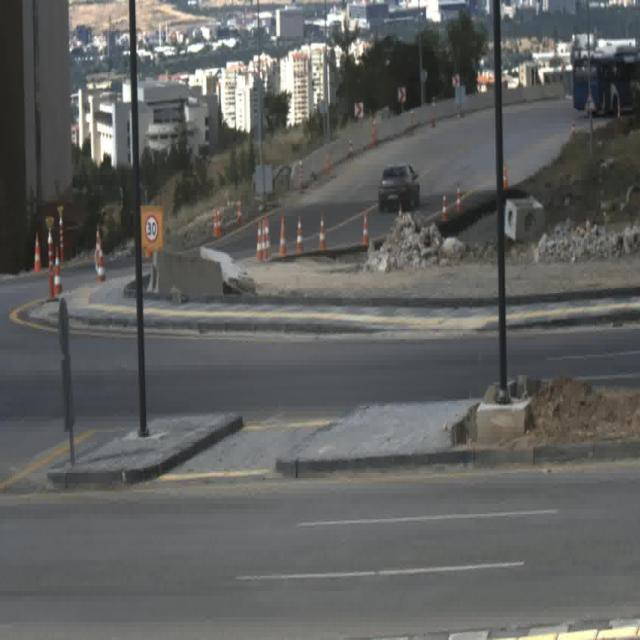Bus: (573, 48, 640, 118)
Car: (379, 160, 421, 208)
